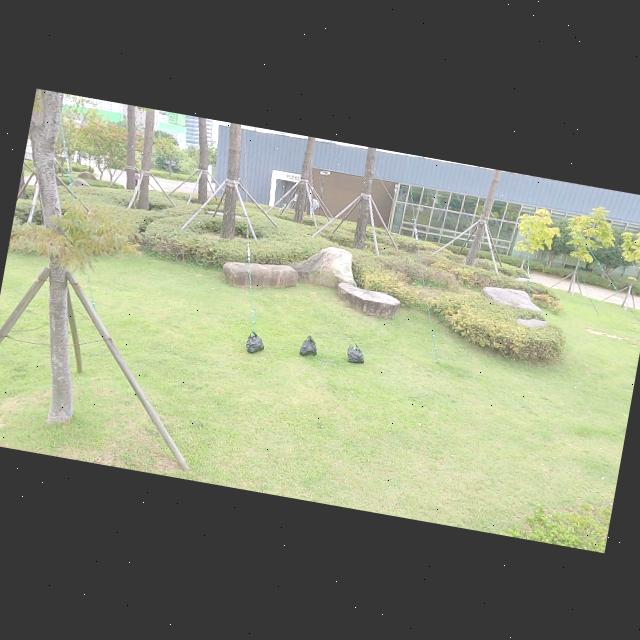trash: (340, 338, 370, 368), (240, 327, 268, 358), (296, 331, 322, 358)
